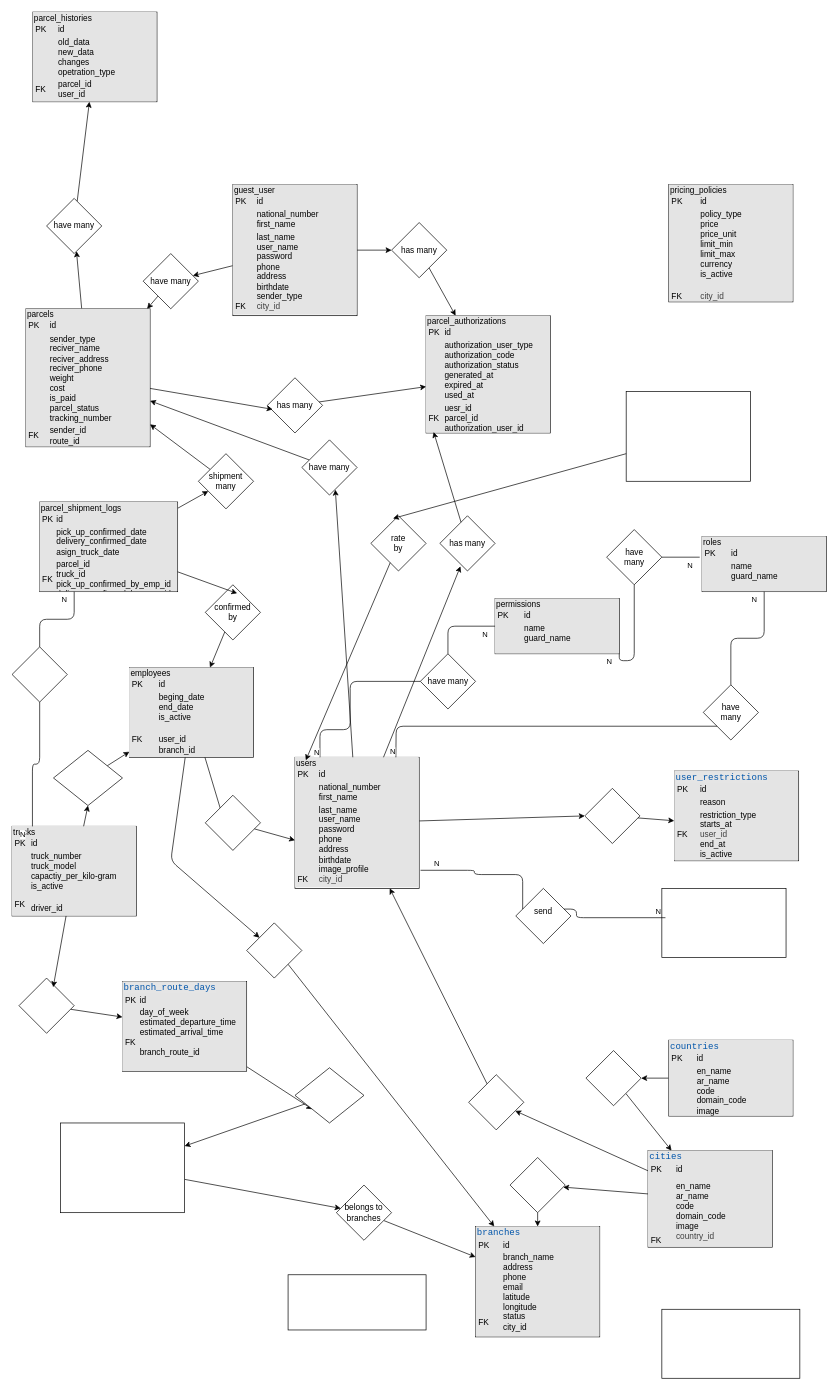
This 838x1390 diagram has some shape labels left out. The centre of each missing label's shape, as x and y in pixels:
"belongs to branch_routes" goes at point 329,1095.
"belongs to branche" goes at point 274,950.
"belongs to user" goes at point 232,822.
"branch_routes PK id FK is_active distance_per_kilo from_branch_id to_branch_id" goes at point 122,1167.
"driven By" goes at point 87,778.
"frequently_asked_question PK id question answer category_type is_show" goes at point 730,1343.
"has branches" goes at point 537,1185.
"has cities" goes at point 613,1078.
"has restrictions" goes at point 612,816.
"has users" goes at point 496,1102.
"notifications PK id title message notification_type notification_priority" goes at point 723,922.
"rates PK id rating comment rateable_type FK user_id rateable_id" goes at point 687,436.
"shipment" goes at point 39,674.
"usage_policies PK id policy_type policy_name policy_description" goes at point 356,1302.
"work on" goes at point 46,1005.
